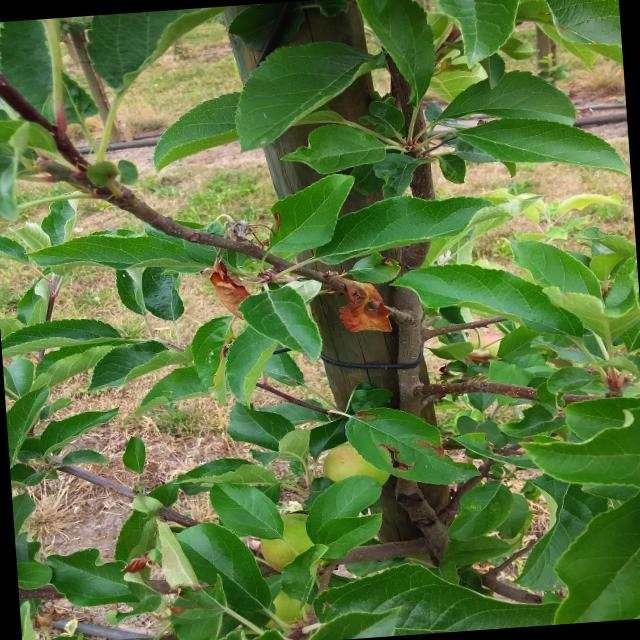-FireBlight-: (323, 264, 405, 352), (197, 222, 247, 316)
